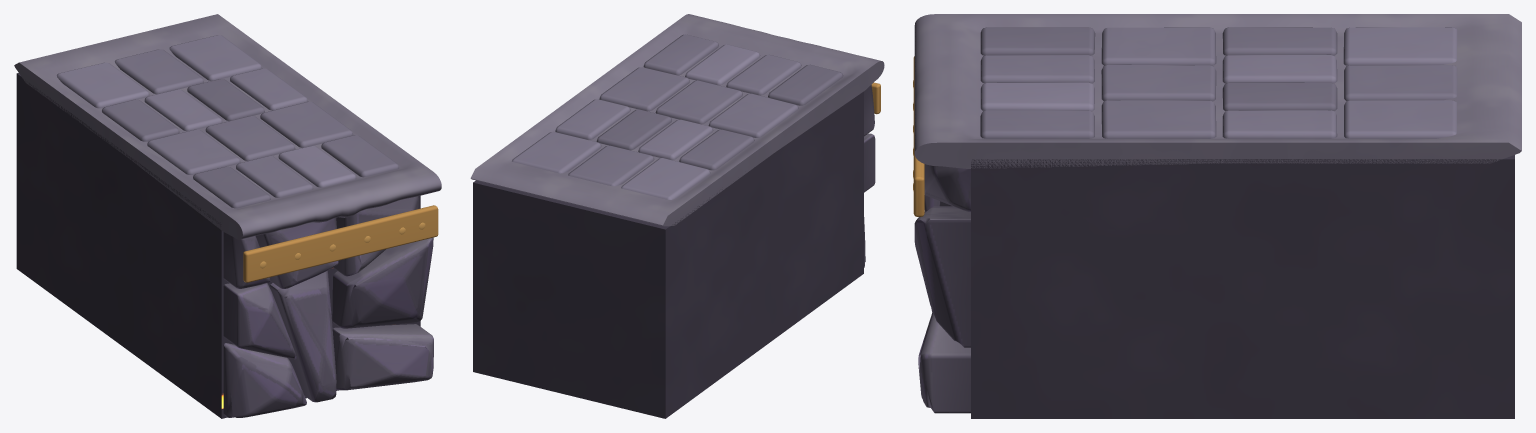
Rendered from EF_T05_FortressPaving.fbx.
3 renders of one model, left to right at view 1: azimuth 30°, elevation 25°; view 2: azimuth 150°, elevation 25°; view 3: azimuth 270°, elevation 25°, orthographic. The views are drawn at different scales.
Parts seen in each view (by area): view 1: Rock, Paving, Crust, BronzeBand; view 2: Rock, Paving, Crust; view 3: Rock, Paving, Crust, BronzeBand.
Boxes of the visible parts, left/top/right/bottom form: Rock: left=16, top=73, right=433, bottom=418; Paving: left=57, top=35, right=398, bottom=208; Crust: left=14, top=14, right=441, bottom=239; BronzeBand: left=243, top=205, right=438, bottom=282; Rock: left=473, top=85, right=875, bottom=418; Paving: left=512, top=34, right=843, bottom=199; Crust: left=470, top=14, right=884, bottom=226; Rock: left=914, top=155, right=1514, bottom=418; Paving: left=980, top=27, right=1457, bottom=138; Crust: left=914, top=14, right=1521, bottom=168; BronzeBand: left=913, top=56, right=924, bottom=216.
Size of the model in its own units: 2 by 2 by 4.
